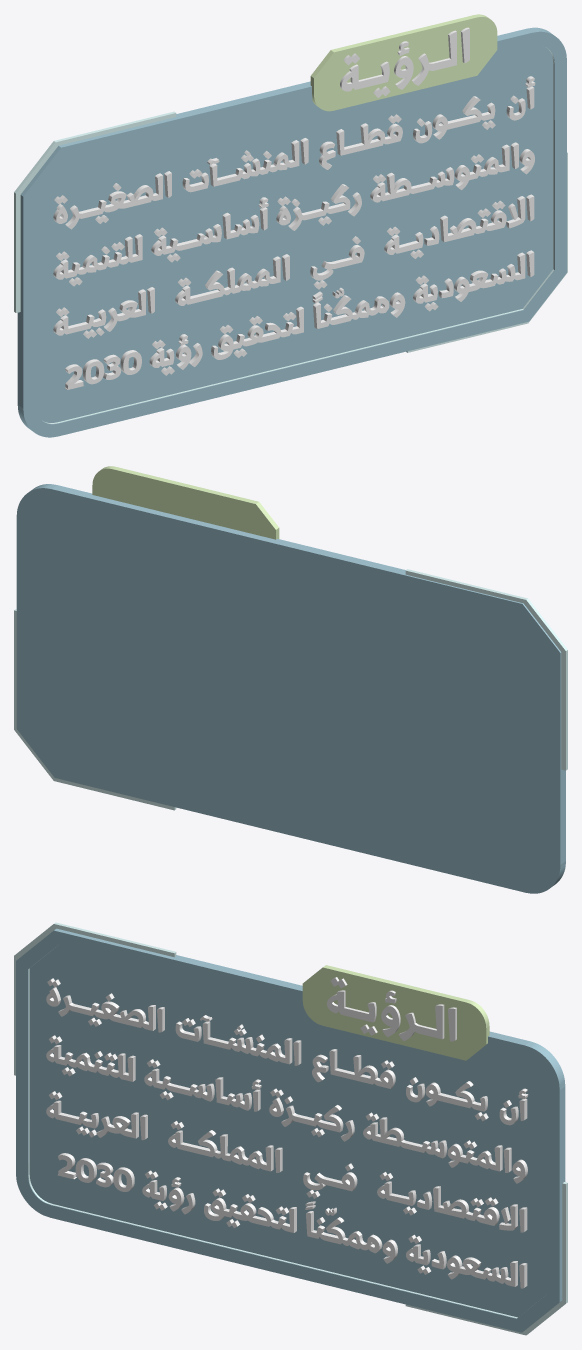
Rendered from Board_00101.glb.
The picture shows the model from 3 angles, top to bottom: view 1: azimuth 30°, elevation 25°; view 2: azimuth 150°, elevation 25°; view 3: azimuth 330°, elevation 25°; orthographic projection.
Visible parts, largest first — view 1: Shape013, SShape001, Shape011, Shape008, SShape005, SShape004, Shape018; view 2: Shape013, Shape011, Shape008, SShape004; view 3: Shape013, SShape001, Shape011, Shape008, SShape005, SShape004, Shape018.
Boxes of the visible parts, box(x1,y1,x2,y2) form: Shape013: box(35, 45, 553, 422); SShape001: box(53, 76, 535, 389); Shape011: box(17, 27, 566, 437); Shape008: box(310, 14, 497, 111); SShape005: box(340, 27, 469, 97); SShape004: box(14, 111, 567, 352); Shape018: box(42, 47, 554, 423); Shape013: box(29, 501, 548, 880); Shape011: box(16, 484, 565, 893); Shape008: box(92, 466, 279, 539); SShape004: box(14, 569, 567, 810); Shape013: box(29, 944, 547, 1317); SShape001: box(46, 978, 528, 1288); Shape011: box(16, 928, 565, 1332); Shape008: box(302, 965, 489, 1060); SShape005: box(327, 977, 456, 1041); SShape004: box(14, 922, 567, 1335); Shape018: box(28, 947, 546, 1318).
Size of the model in its own units: 192 by 108 by 5.58.
